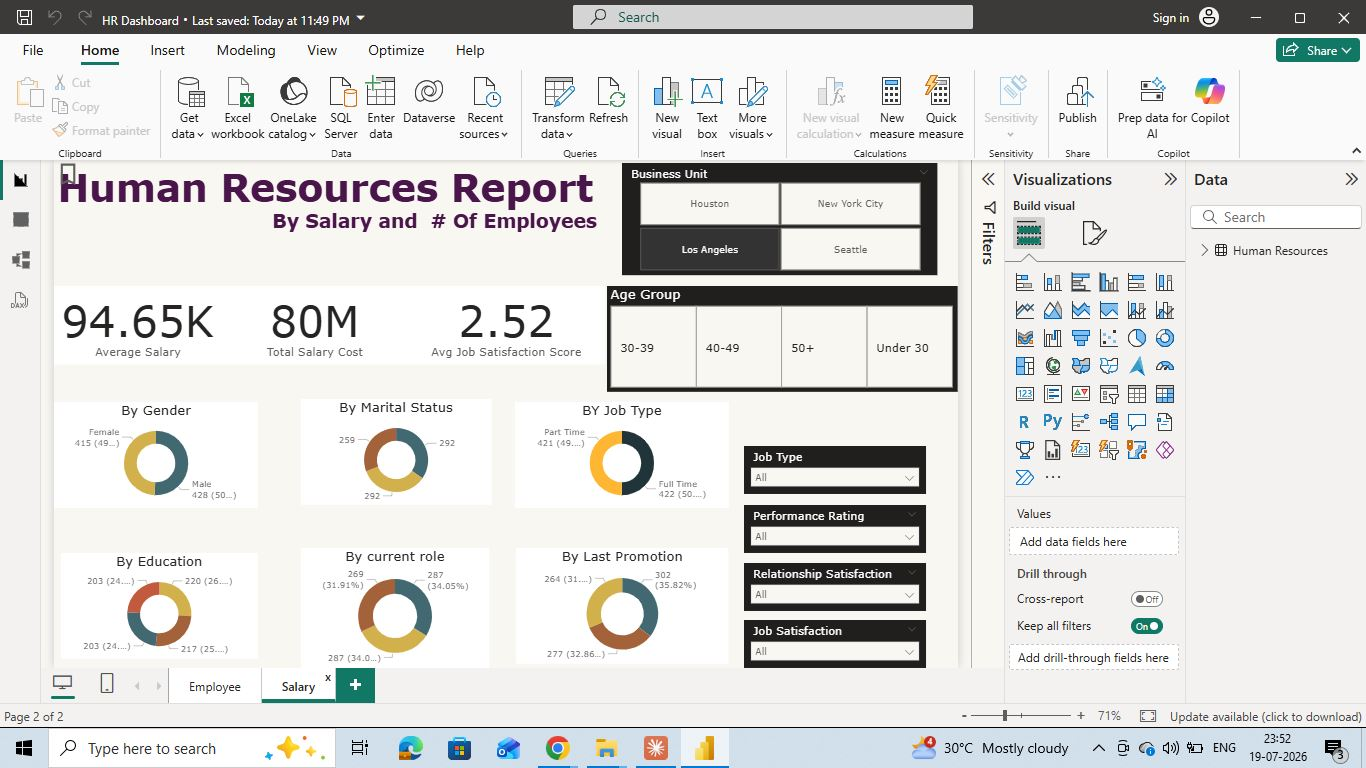

The page's visual inventory and layout, read from the dashboard file:
{"tool":"powerbi","page":{"name":"Salary","canvas":[1280,720],"ordinal":1},"visuals":[{"type":"card","fields":{"Values":["Human Resources.Average Salary"]},"box":[0,178.6,238.1,110.6],"z":0},{"type":"textbox","box":[0,331.5,238,150],"z":1000},{"type":"textbox","box":[0,0,783.8,163],"z":2000},{"type":"card","fields":{"Values":["Human Resources.Total Salary Cost"]},"box":[237.8,178.7,263.6,110.6],"z":3000},{"type":"card","fields":{"Values":["Human Resources.Avg Job Satisfaction Score"]},"box":[501.4,178.7,278.7,110.6],"z":4000},{"type":"advancedSlicerVisual","fields":{"Values":["Human Resources.Age Group"]},"box":[783.1,178.7,496.9,150],"z":5000},{"type":"donutChart","title":"By Gender","fields":{"Category":["Human Resources.Gender"],"Y":["CountNonNull(Human Resources.Gender)"]},"box":[0,342.3,289.3,150],"z":6000},{"type":"donutChart","title":"By Marital Status","fields":{"Category":["Human Resources.Marital Status"],"Y":["CountNonNull(Human Resources.Marital Status)"]},"box":[349.9,339.3,269.6,150],"z":7000},{"type":"donutChart","title":"BY Job Type","fields":{"Y":["CountNonNull(Human Resources.Job Type)"],"Category":["Human Resources.Job Type"]},"box":[652.9,342.3,303,150],"z":8000},{"type":"donutChart","title":"By Education","fields":{"Category":["Human Resources.Education"],"Y":["CountNonNull(Human Resources.Education)"]},"box":[10.6,557.4,278.7,150],"z":9000},{"type":"donutChart","title":"By current role ","fields":{"Category":["Human Resources.Years in current role"],"Y":["CountNonNull(Human Resources.Years in current role)"]},"box":[349.9,549.9,266.6,169.7],"z":10000},{"type":"donutChart","title":"By Last Promotion","fields":{"Category":["Human Resources.Years since last promition"],"Y":["CountNonNull(Human Resources.Years since last promition)"]},"box":[654.4,549.9,301.4,163.6],"z":11000},{"type":"slicer","fields":{"Values":["Human Resources.Performance Rating"]},"box":[978.6,489.3,257.5,68.2],"z":12000},{"type":"slicer","fields":{"Values":["Human Resources.Relationship Satisfaction"]},"box":[978.6,571.1,257.5,68.2],"z":13000},{"type":"slicer","fields":{"Values":["Human Resources.Job Satisfaction"]},"box":[978.6,651.4,257.5,68.2],"z":14000},{"type":"slicer","fields":{"Values":["Human Resources.Business Unit"]},"box":[804.4,4.5,446.9,159.1],"z":15000},{"type":"slicer","fields":{"Values":["Human Resources.Job Type"]},"box":[978.6,406,257.5,68.2],"z":16000},{"type":"actionButton","box":[0,0,100,40],"z":17000}]}

Visuals, with their boxes on the page's 1280x720 design canvas (x1, y1, x2, y2). These are canvas units, not pixel positions in the 1366x768 screenshot, which may show the page scaled, cropped or inside an application window:
card - Human Resources.Average Salary: rect(0, 179, 238, 289)
textbox: rect(0, 332, 238, 482)
textbox: rect(0, 0, 784, 163)
card - Human Resources.Total Salary Cost: rect(238, 179, 501, 289)
card - Human Resources.Avg Job Satisfaction Score: rect(501, 179, 780, 289)
advancedSlicerVisual - Human Resources.Age Group: rect(783, 179, 1280, 329)
"By Gender" donutChart: rect(0, 342, 289, 492)
"By Marital Status" donutChart: rect(350, 339, 620, 489)
"BY Job Type" donutChart: rect(653, 342, 956, 492)
"By Education" donutChart: rect(11, 557, 289, 707)
"By current role " donutChart: rect(350, 550, 616, 720)
"By Last Promotion" donutChart: rect(654, 550, 956, 714)
slicer - Human Resources.Performance Rating: rect(979, 489, 1236, 558)
slicer - Human Resources.Relationship Satisfaction: rect(979, 571, 1236, 639)
slicer - Human Resources.Job Satisfaction: rect(979, 651, 1236, 720)
slicer - Human Resources.Business Unit: rect(804, 4, 1251, 164)
slicer - Human Resources.Job Type: rect(979, 406, 1236, 474)
actionButton: rect(0, 0, 100, 40)
